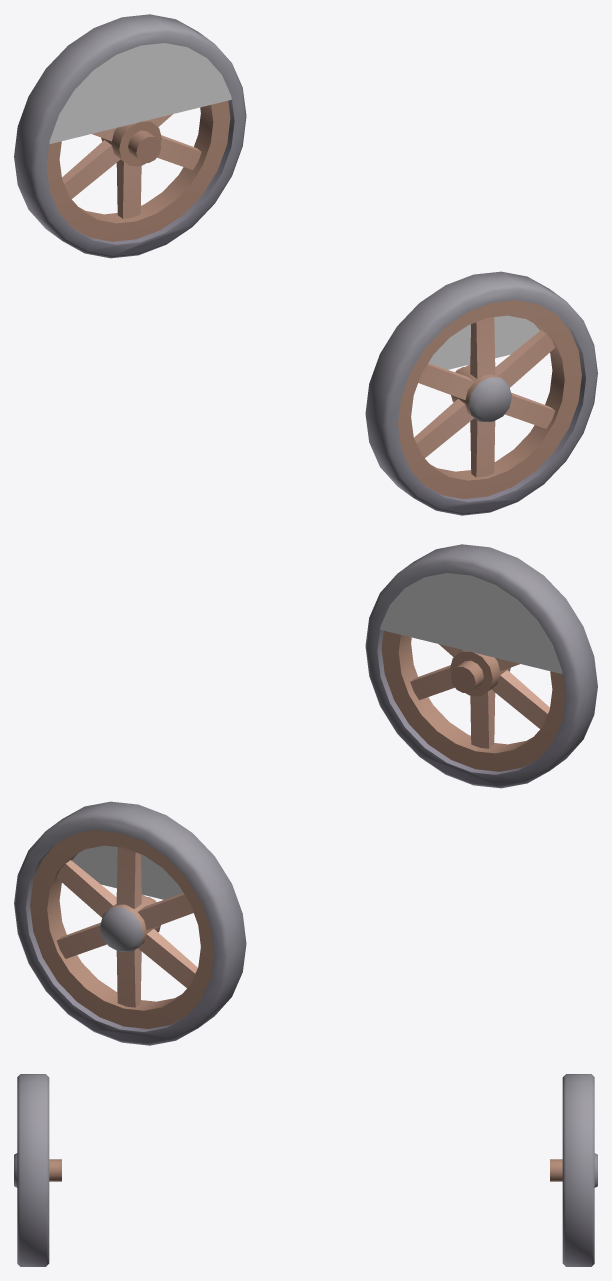
3 views of the same model, one above another, from view 1: azimuth 30°, elevation 25°; view 2: azimuth 150°, elevation 25°; view 3: azimuth 270°, elevation 25° (orthographic). The views are drawn at different scales.
Visible parts, largest first — view 1: base-f; view 2: base-f; view 3: base-f.
Boxes of the visible parts, <box> form: base-f: <box>14,14,597,515</box>; base-f: <box>14,544,597,1045</box>; base-f: <box>14,1074,597,1266</box>.
Bounding box in the file's own units: 0.7539 × 0.7539 × 2.28.
